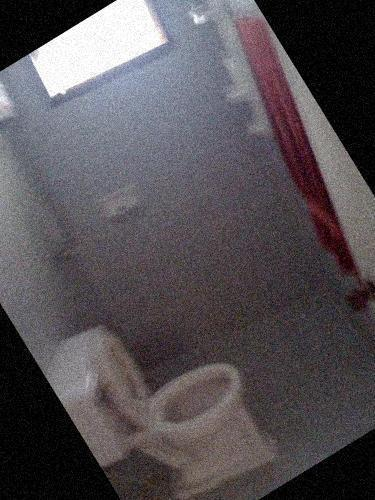Sanitario: (34, 267, 296, 500)
